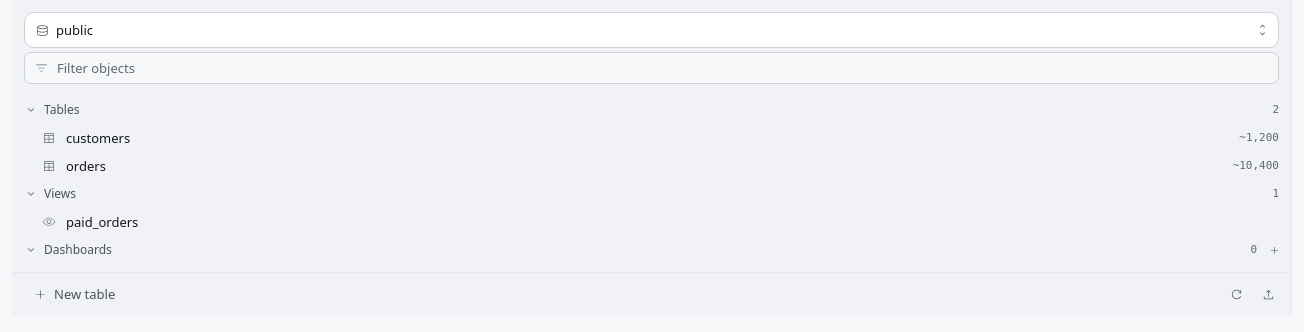
Scenario: Sidebar › lists objects in collapsible sections with counts
Expected: the list item "orders ~10,400" is shown, [18, 152, 1285, 180]
Expected: the text "~10,400" is shown, [1233, 158, 1279, 174]
Click the button with aria-label "Tables (2)": {"x": 62, "y": 109} [12, 96, 1291, 124]
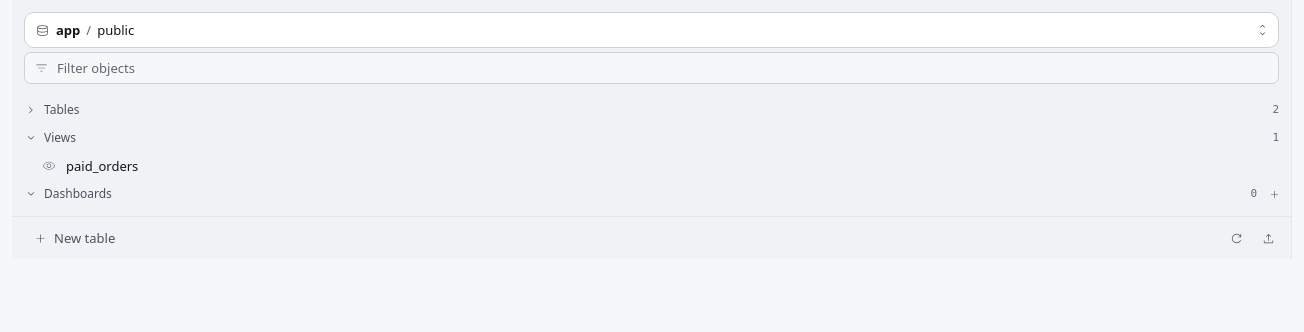
Expected: the button with aria-label "Views (1)" is shown, [12, 124, 1291, 152]
Expected: the list item "customers" is gone
